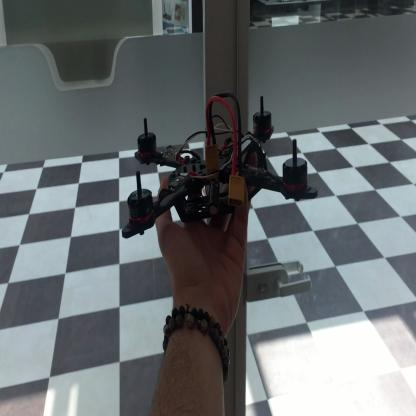drone: (117, 98, 322, 238)
